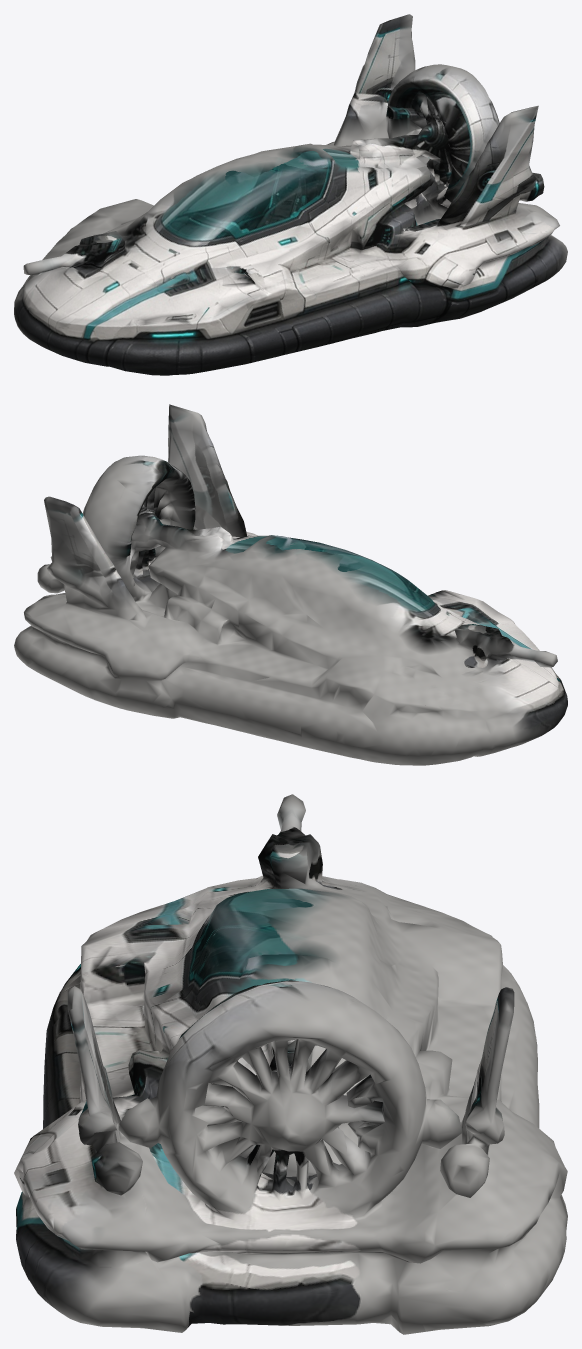
File: skink_lod1.glb
3 renders of one model, top to bottom at view 1: azimuth 30°, elevation 25°; view 2: azimuth 150°, elevation 25°; view 3: azimuth 270°, elevation 25°, orthographic. The views are drawn at different scales.
Parts seen in each view (by area): view 1: geometry_0; view 2: geometry_0; view 3: geometry_0.
Boxes of the visible parts, <box> form: geometry_0: <box>14,14,567,375</box>; geometry_0: <box>14,404,567,765</box>; geometry_0: <box>14,794,567,1334</box>.
Bounding box in the file's own units: 2 × 0.7751 × 1.14.
Materials: 1 (1 with a texture image).
